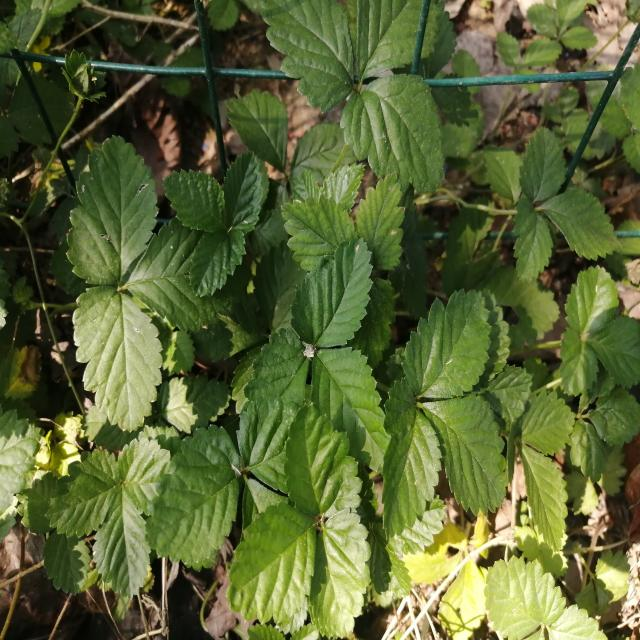Mock_strawberry: (212, 124, 405, 438), (153, 386, 383, 636), (54, 147, 260, 425), (377, 300, 532, 533)
